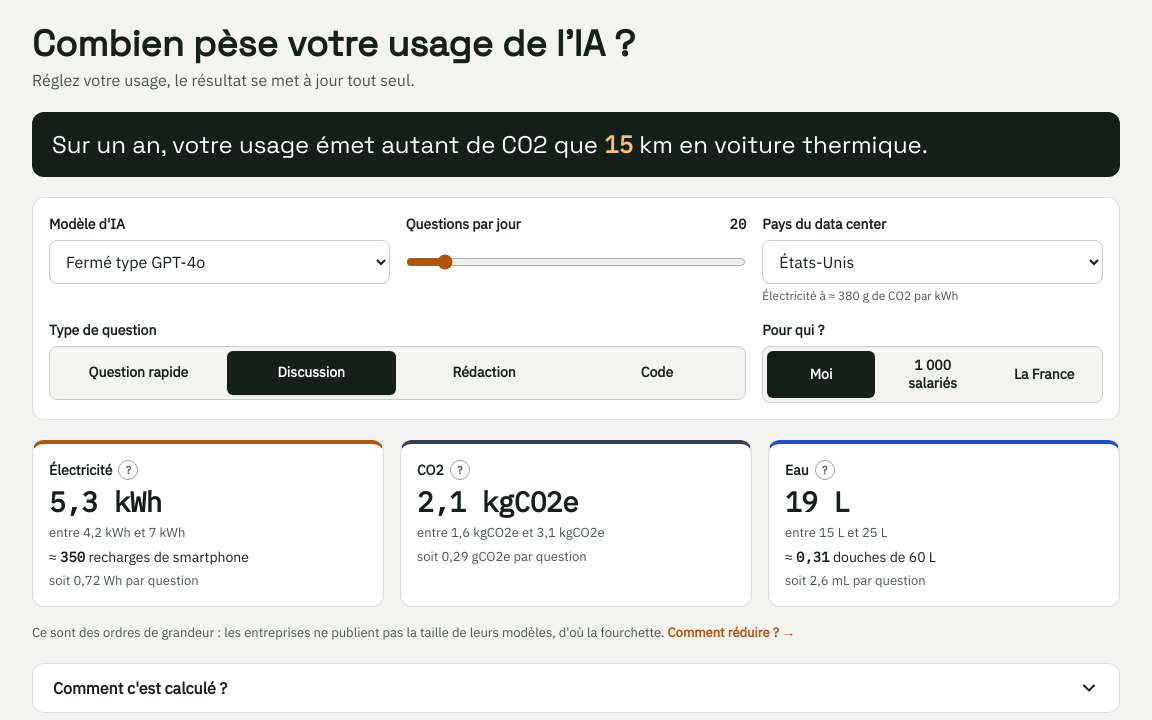
Test: Simulateur › petit modèle et 1 question par jour : aucune valeur à « 0 »
Select "Petit ouvert" in the dropdown labelled "Modèle d'IA". click: {"x": 219, "y": 262}
box: [49,240,390,284]
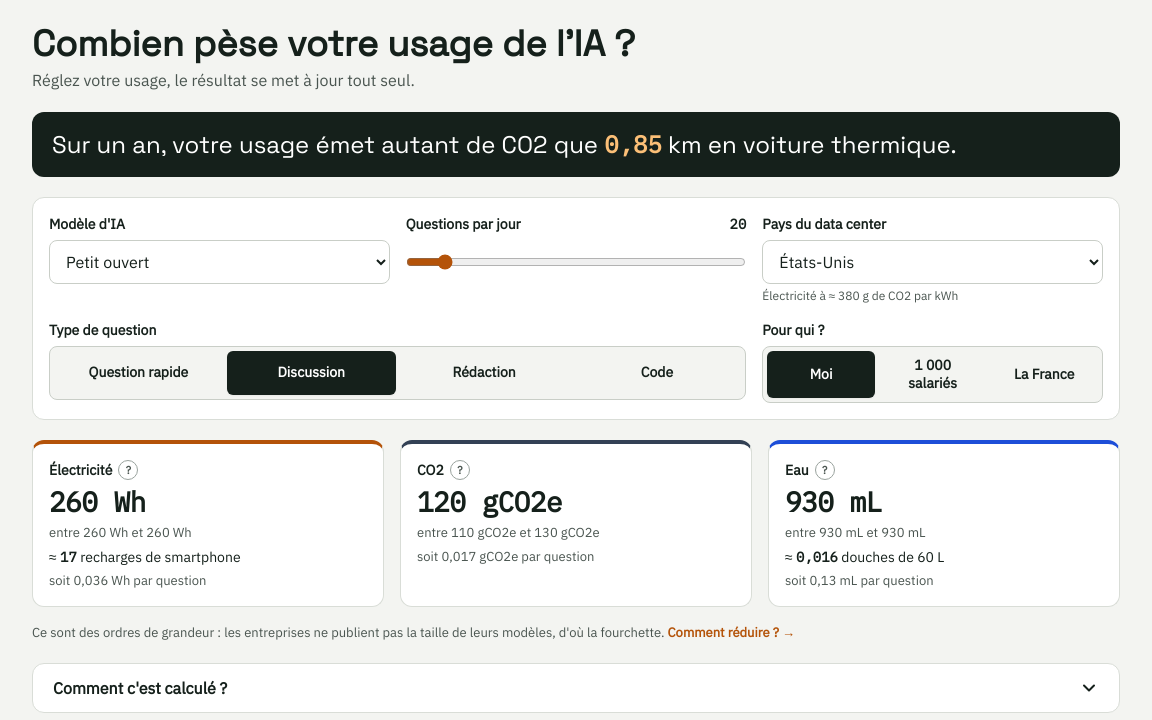
Set the slider labelled "Questions par jour 20" to "1". click: {"x": 414, "y": 262}
box: [406,240,746,284]
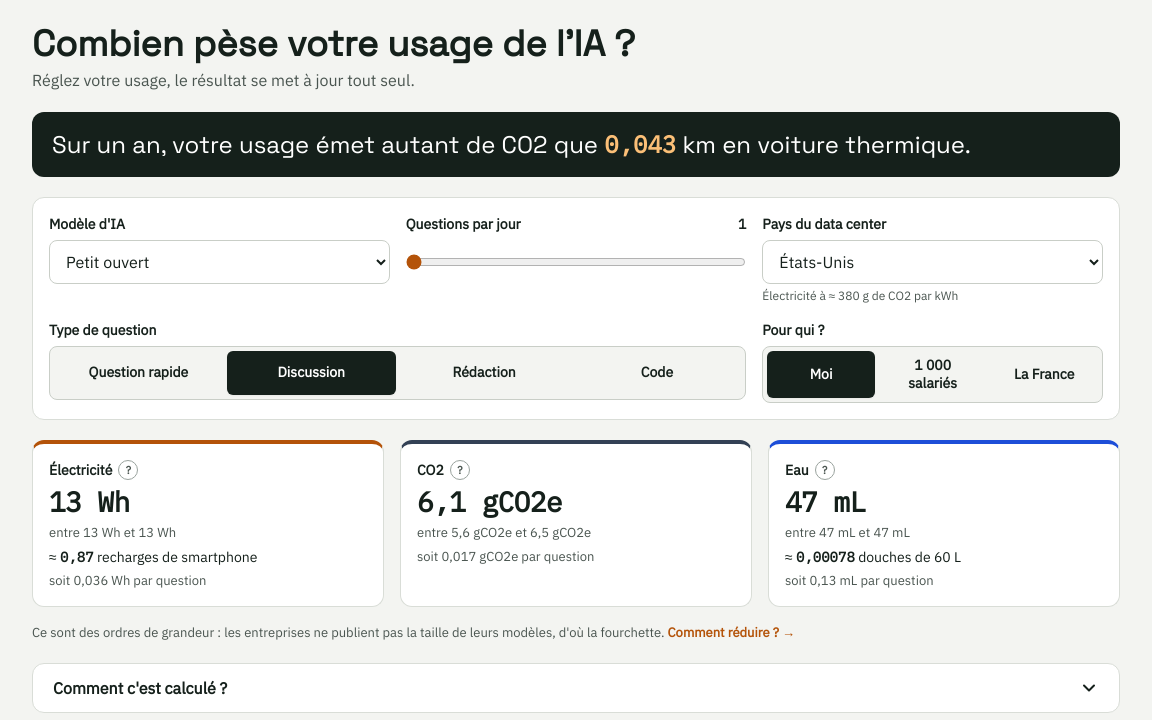
Expected: the text with test id "valeur" no longer shows "0"
